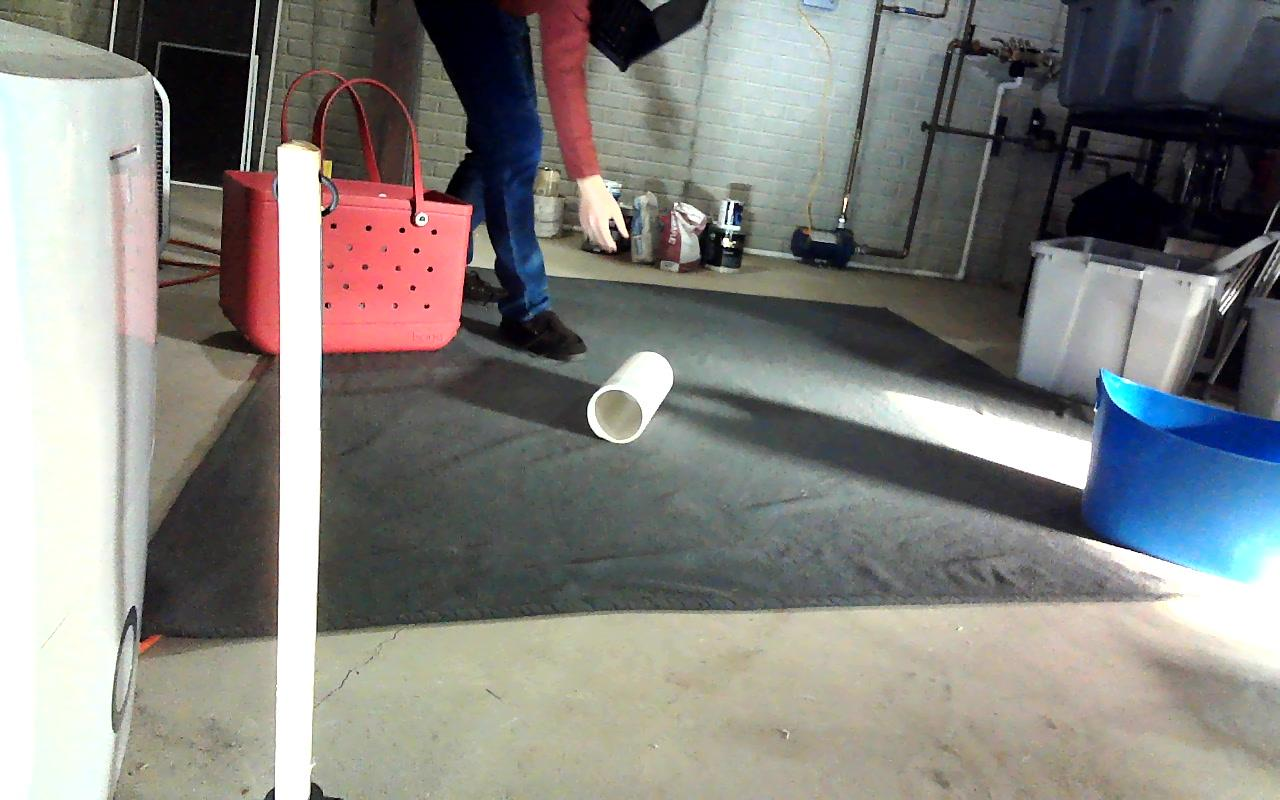coral: (588, 351, 673, 445)
